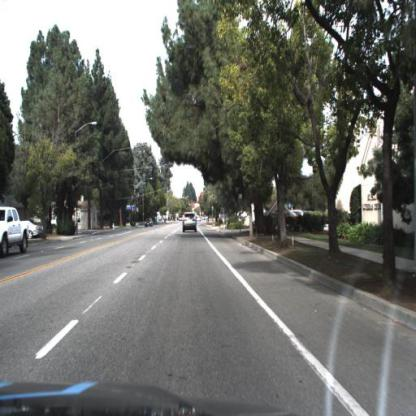car: (1, 205, 29, 259), (182, 212, 200, 238), (27, 217, 45, 241), (143, 217, 157, 233)
